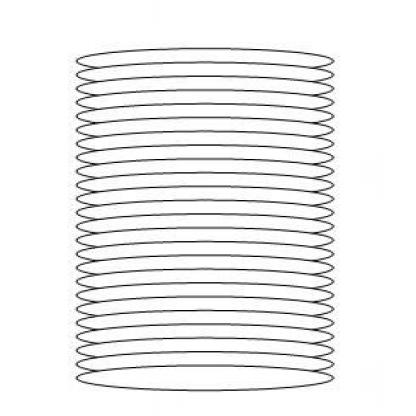FOD: (66, 42, 343, 395)
